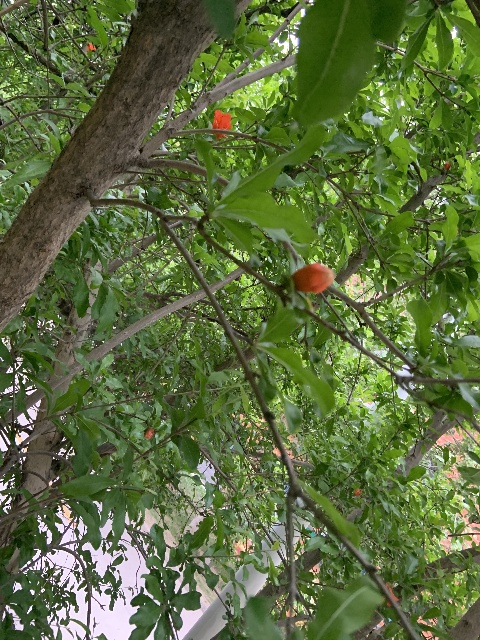bud: (292, 263, 334, 293), (143, 428, 153, 439), (353, 489, 361, 495), (444, 161, 449, 170)
flower: (211, 109, 232, 140), (86, 42, 96, 51)
